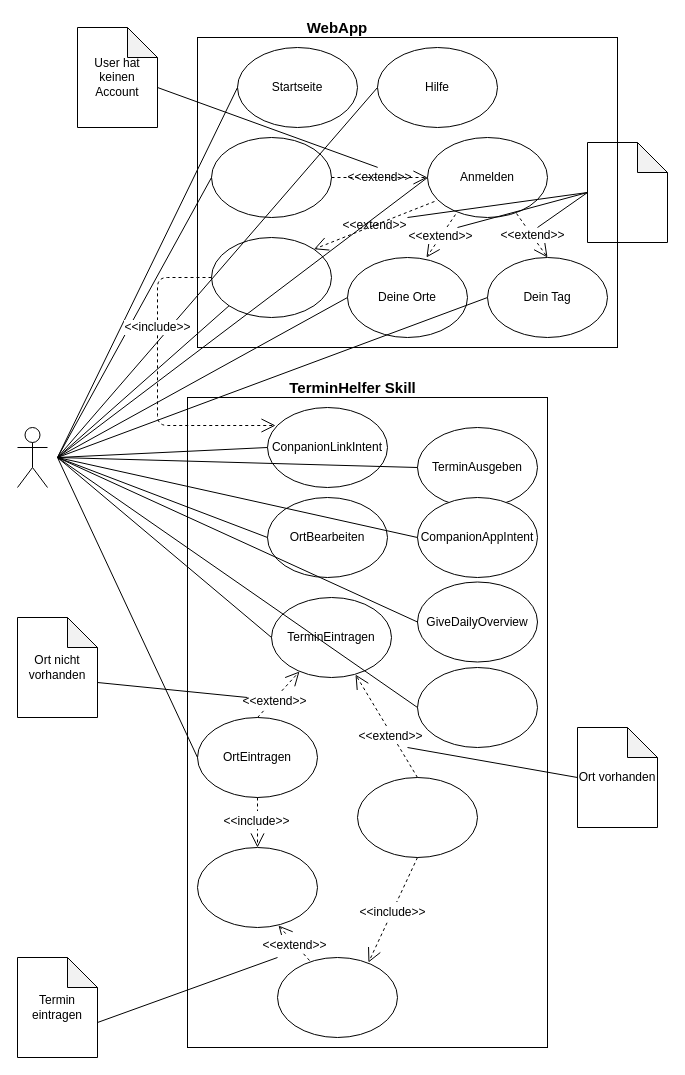
Image size: 685x1075. Some labels were removed from this diagram. The shapes that lost their labels are listed below. From the top down, each one's box as (x1, y1, x2, y2) in pixels, then its label:
(210, 136, 332, 218): Registrieren
(586, 142, 668, 242): User ist nicht angemeldet
(210, 236, 332, 318): SkillLink
(16, 426, 48, 488): Actor
(416, 666, 538, 748): Alexa default Intents
(356, 776, 478, 858): UseDefaultTransport
(196, 846, 318, 928): AddTransport
(276, 956, 398, 1038): SaveAppointment
